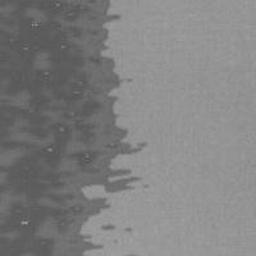Water spot: (0, 0, 150, 256)
